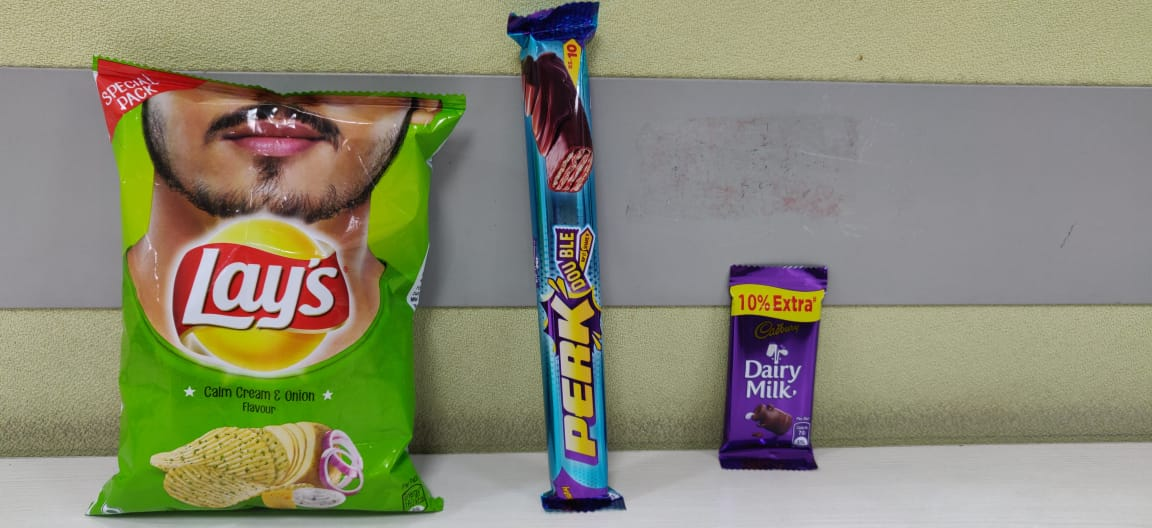dairy milk: (718, 260, 833, 480)
lays chips: (79, 49, 474, 528)
perk: (499, 1, 641, 528)
